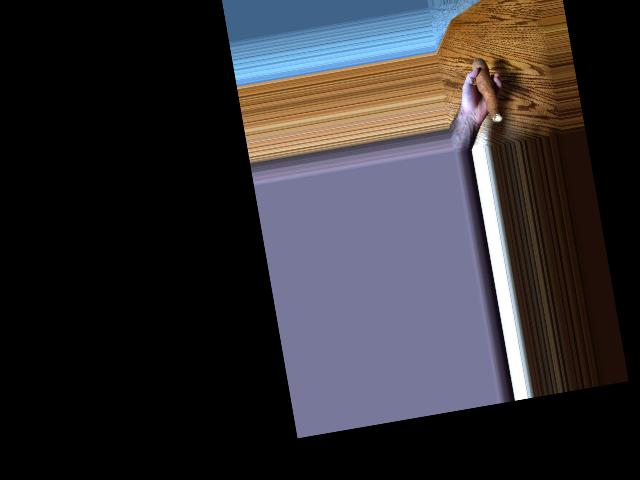sweet_potato: (470, 57, 500, 123)
